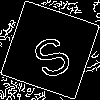S: (25, 25, 75, 82)
